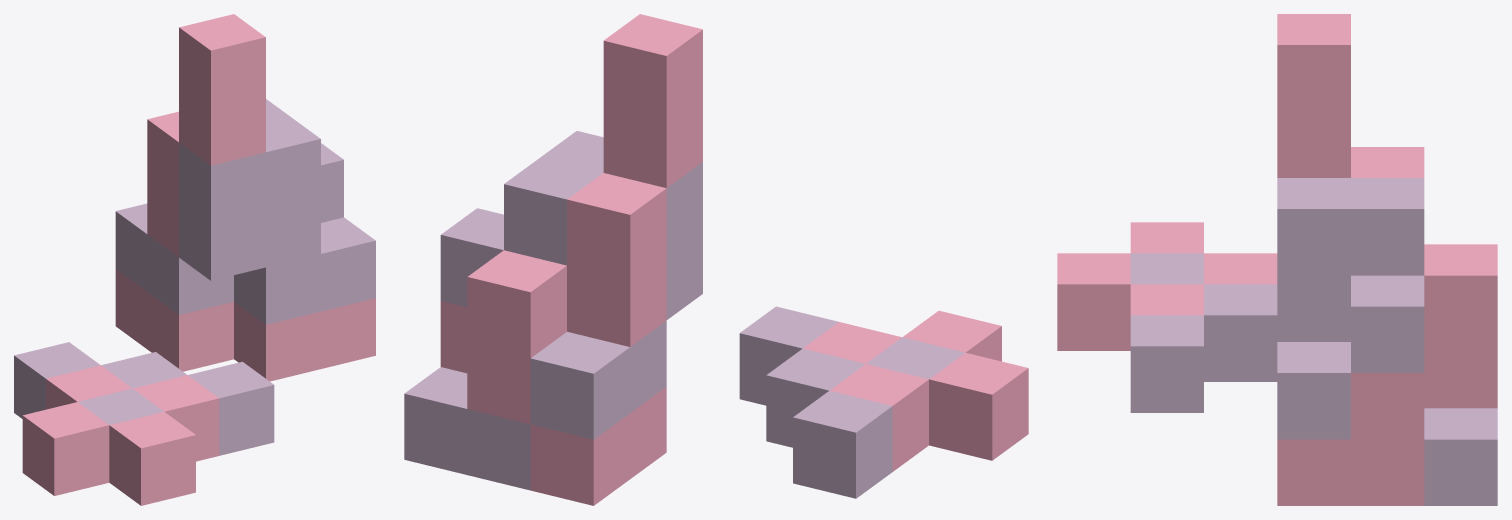
Rendered from shells.obj.
3 renders of one model, left to right at view 1: azimuth 30°, elevation 25°; view 2: azimuth 150°, elevation 25°; view 3: azimuth 270°, elevation 25°, orthographic. The views are drawn at different scales.
Size of the model in its own units: 0.7 by 0.6 by 0.6.
